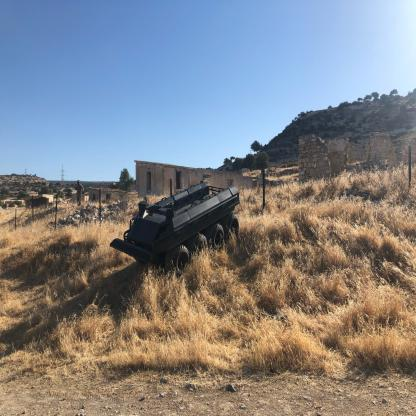UGV: (110, 182, 239, 275)
